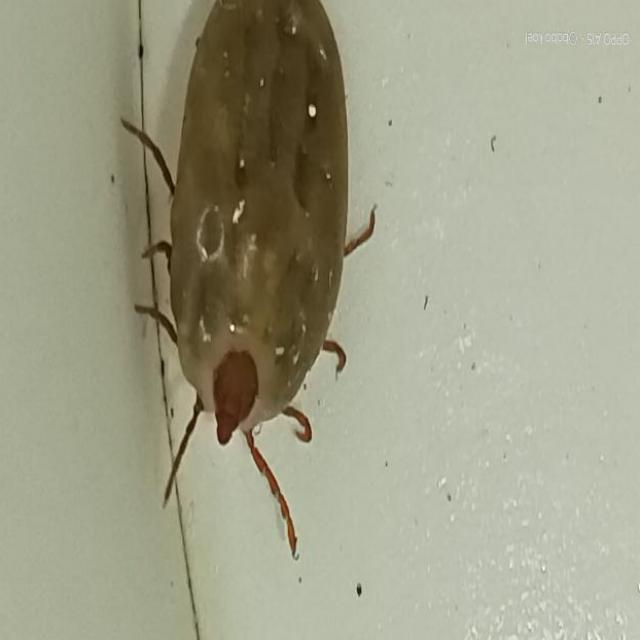Rhipicephalus Sanguineus-F-Fed: (121, 0, 376, 533)
